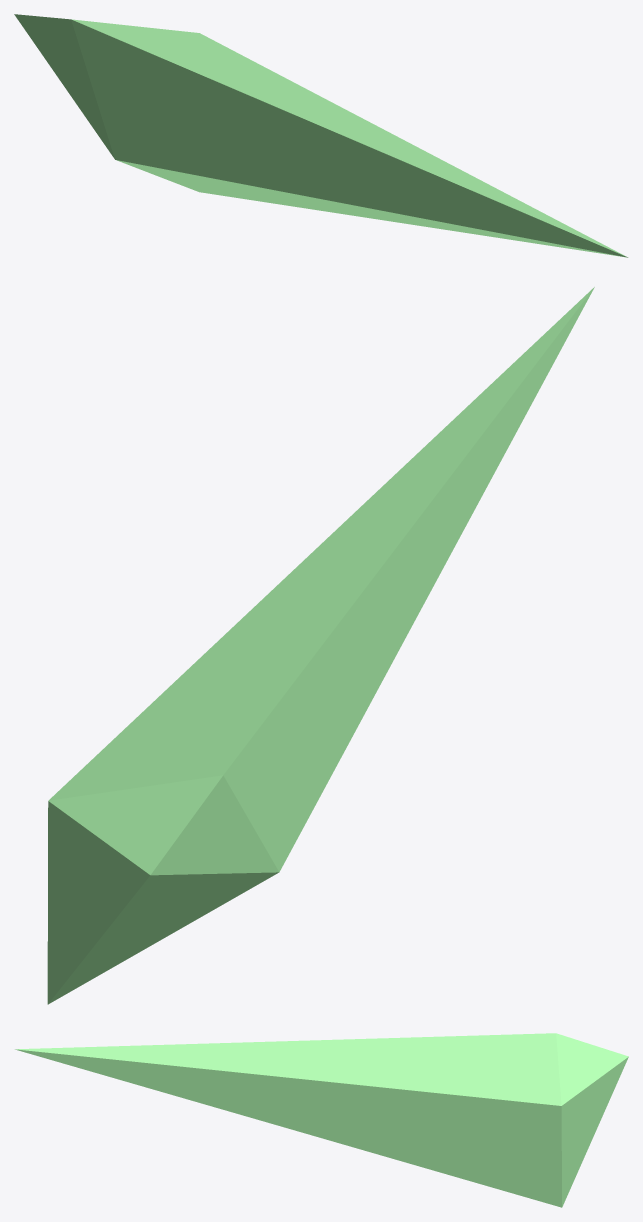
File: linkhou_LR4_R560_link7_respondable_coll_16.dae
3 renders of one model, top to bottom at view 1: azimuth 30°, elevation 25°; view 2: azimuth 150°, elevation 25°; view 3: azimuth 270°, elevation 25°, orthographic. The views are drawn at different scales.
Parts seen in each view (by area): view 1: Node_00000209DB3ACC00; view 2: Node_00000209DB3ACC00; view 3: Node_00000209DB3ACC00.
Part boxes in pixels (x1=…): Node_00000209DB3ACC00: x1=14, y1=14, x2=628, y2=257; Node_00000209DB3ACC00: x1=47, y1=287, x2=594, y2=1004; Node_00000209DB3ACC00: x1=15, y1=1033, x2=628, y2=1207.
Size of the model in its own units: 0.00301 by 0.00536 by 0.0188.
